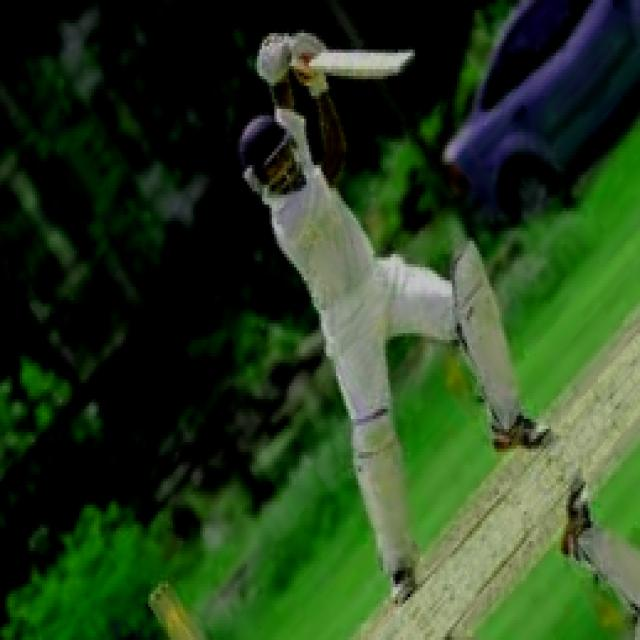toe: (369, 48, 415, 86)
